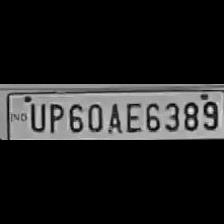0: (84, 100, 104, 132)
3: (162, 98, 180, 132)
6: (64, 100, 82, 134), (142, 100, 160, 132)
8: (181, 98, 199, 132)
9: (200, 97, 218, 131)
A: (105, 99, 123, 133)
E: (123, 99, 141, 133)
P: (46, 100, 64, 134)
U: (25, 100, 45, 132)
